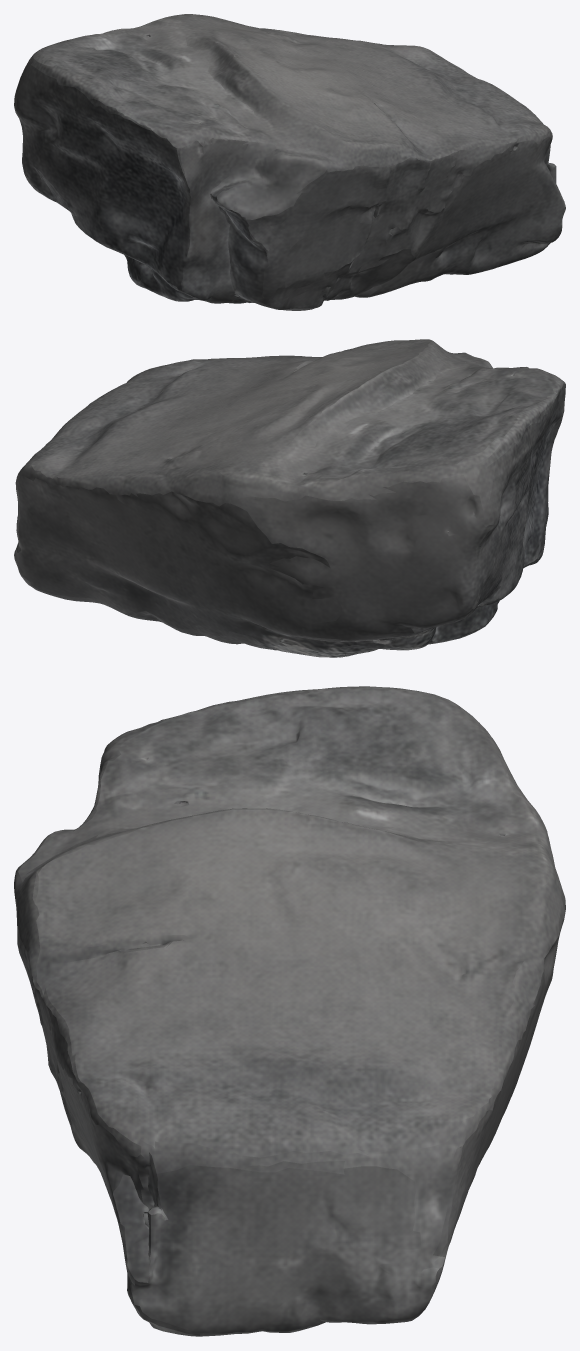
3 views of the same model, one above another, from view 1: azimuth 30°, elevation 25°; view 2: azimuth 150°, elevation 25°; view 3: azimuth 270°, elevation 25° (orthographic). The views are drawn at different scales.
Parts seen in each view (by area): view 1: world; view 2: world; view 3: world.
Part boxes in pixels (box(x1,y1,x2,y2)): world: box(14, 14, 565, 310); world: box(14, 339, 565, 657); world: box(14, 686, 565, 1336).
Size of the model in its own units: 2.5 by 1.28 by 1.81.
1 material, 1 textured.
